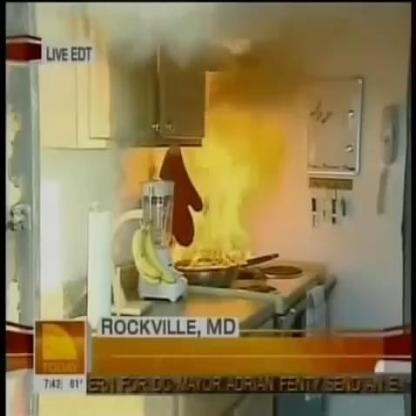fire: (162, 103, 284, 272)
